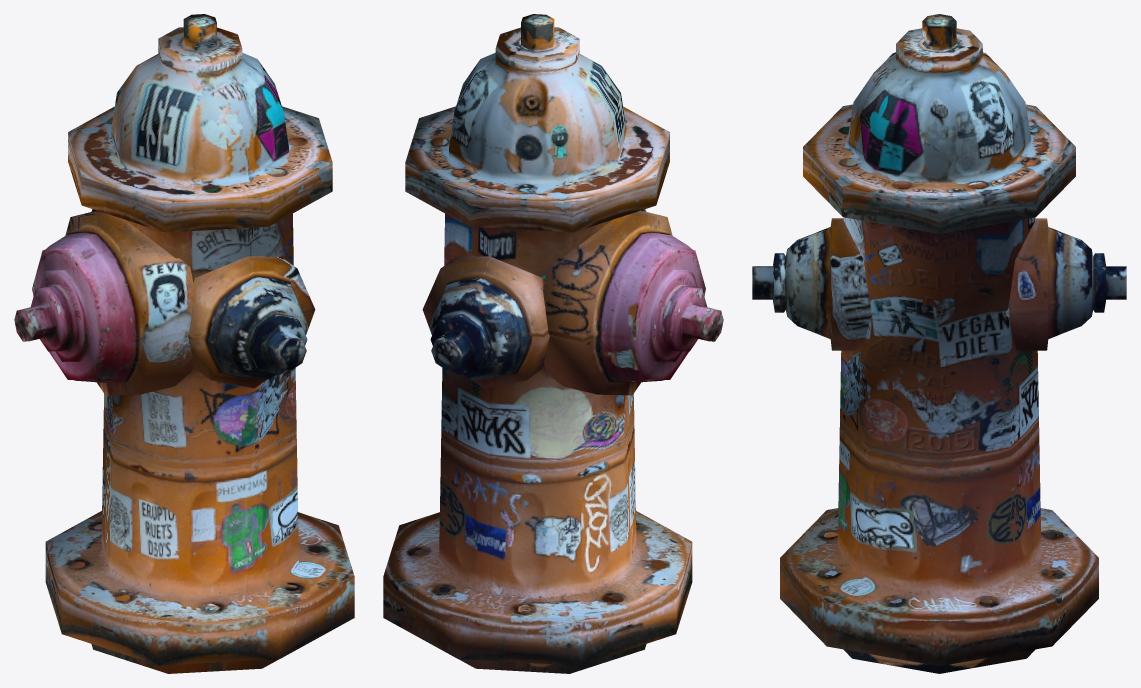
The model's file is Hydrant.obj.
The picture shows the model from 3 angles, left to right: view 1: azimuth 30°, elevation 25°; view 2: azimuth 150°, elevation 25°; view 3: azimuth 270°, elevation 25°; orthographic projection.
Visible parts, largest first — view 1: Hydrant_low; view 2: Hydrant_low; view 3: Hydrant_low.
Boxes of the visible parts, x1=… form: Hydrant_low: x1=14, y1=14, x2=354, y2=673; Hydrant_low: x1=383, y1=14, x2=723, y2=673; Hydrant_low: x1=752, y1=14, x2=1126, y2=673.
Bounding box in the file's own units: 0.4545 × 0.8282 × 0.4682.
